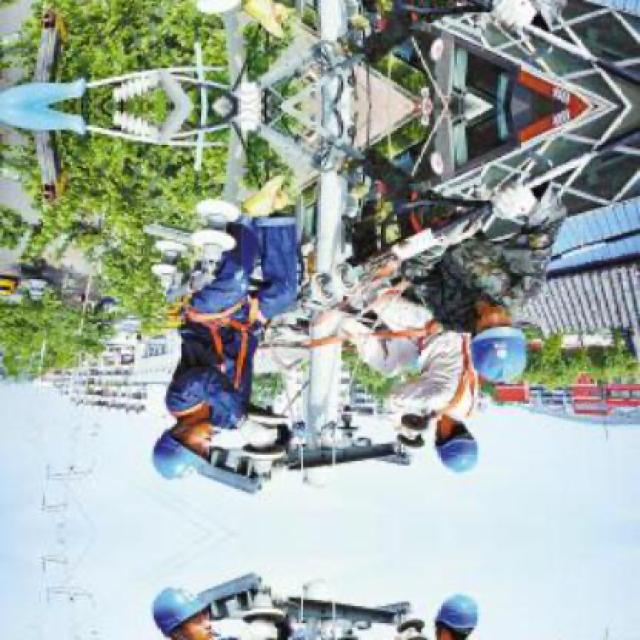con casco: (148, 371, 320, 487), (424, 314, 545, 401), (410, 418, 488, 480)
